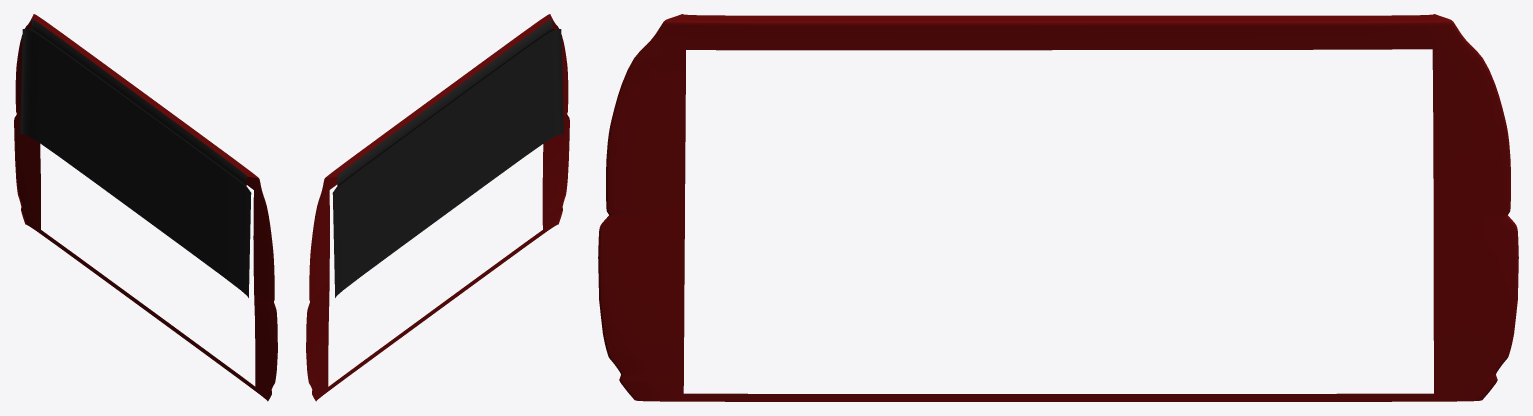
3 renders of one model, left to right at view 1: azimuth 30°, elevation 25°; view 2: azimuth 150°, elevation 25°; view 3: azimuth 270°, elevation 25°, orthographic. The views are drawn at different scales.
Parts seen in each view (by area): view 1: U805_4A_505J_C_U805_4A_505J_C_2_D, U805_4A_505J_C_1_DaS_U805_4A_505J_C, U805_4A_505J_C_1_DaS_U805_4A_505J_C_E; view 2: U805_4A_505J_C_U805_4A_505J_C_2_D, U805_4A_505J_C_1_DaS_U805_4A_505J_C, U805_4A_505J_C_1_DaS_U805_4A_505J_C_E; view 3: U805_4A_505J_C_1_DaS_U805_4A_505J_C, U805_4A_505J_C_1_DaS_U805_4A_505J_C_E.
Part boxes in pixels (x1=…): U805_4A_505J_C_U805_4A_505J_C_2_D: x1=20, y1=19, x2=251, y2=297; U805_4A_505J_C_1_DaS_U805_4A_505J_C: x1=15, y1=22, x2=277, y2=400; U805_4A_505J_C_1_DaS_U805_4A_505J_C_E: x1=14, y1=14, x2=277, y2=400; U805_4A_505J_C_U805_4A_505J_C_2_D: x1=332, y1=19, x2=563, y2=297; U805_4A_505J_C_1_DaS_U805_4A_505J_C: x1=306, y1=22, x2=568, y2=400; U805_4A_505J_C_1_DaS_U805_4A_505J_C_E: x1=306, y1=14, x2=569, y2=400; U805_4A_505J_C_1_DaS_U805_4A_505J_C: x1=600, y1=20, x2=1516, y2=401; U805_4A_505J_C_1_DaS_U805_4A_505J_C_E: x1=598, y1=14, x2=1518, y2=400.
Size of the model in its own units: 5.77 by 79.89 by 175.
